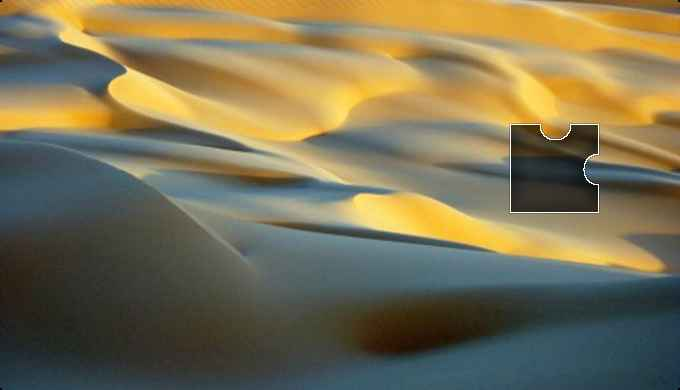gap: (510, 125, 598, 211)
